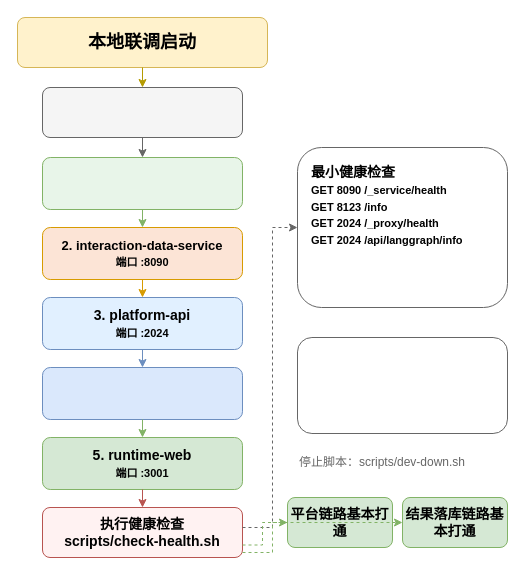
Some shapes in this 525 by 578 pixel diagram are drawn without their labels. The shapes that lost their labels are listed below. From the top down, each one's centre as x and y in pixels, then its label:
At pixel 142 112: "启动脚本 scripts/dev-up.sh".
At pixel 142 183: "1. runtime-service 端口 :8123".
At pixel 142 393: "4. platform-web 端口 :3000".
At pixel 402 385: "访问地址 platform-web: http://127.0.0.1:3000 runtime-web: http://127.0.0.1:3001".
